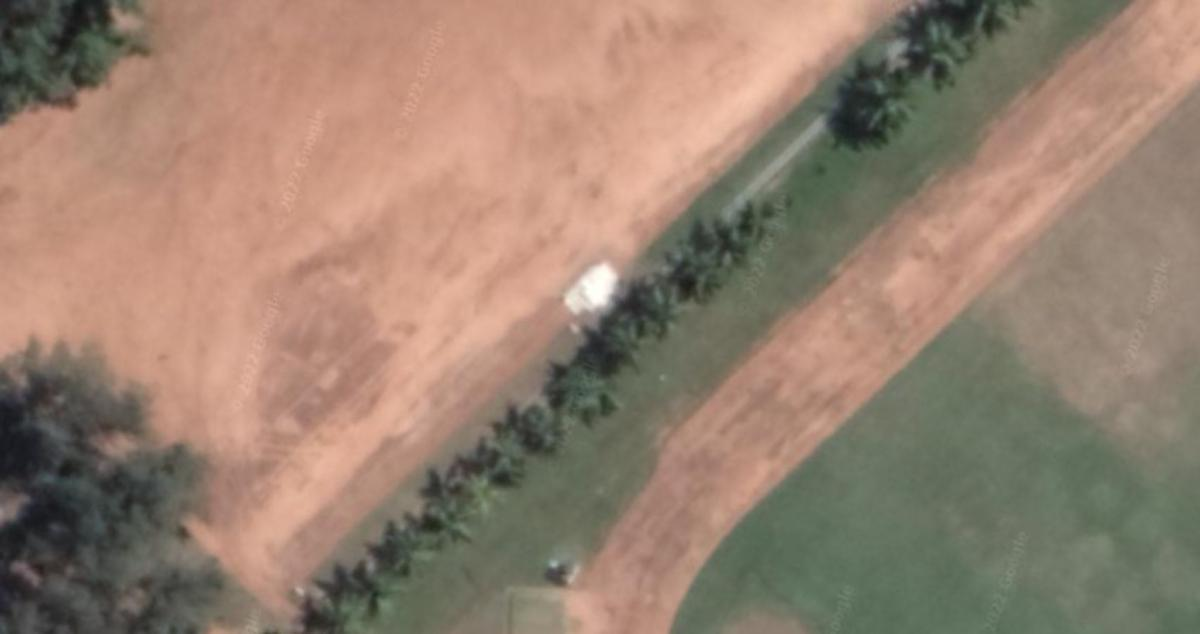coconut: (823, 64, 918, 147), (901, 9, 980, 83), (370, 519, 449, 586), (556, 357, 629, 424), (329, 560, 402, 619), (625, 278, 692, 340), (698, 219, 760, 283), (667, 255, 742, 305), (511, 409, 573, 462), (447, 462, 505, 515), (600, 314, 653, 363), (425, 495, 476, 539), (483, 439, 523, 493)
